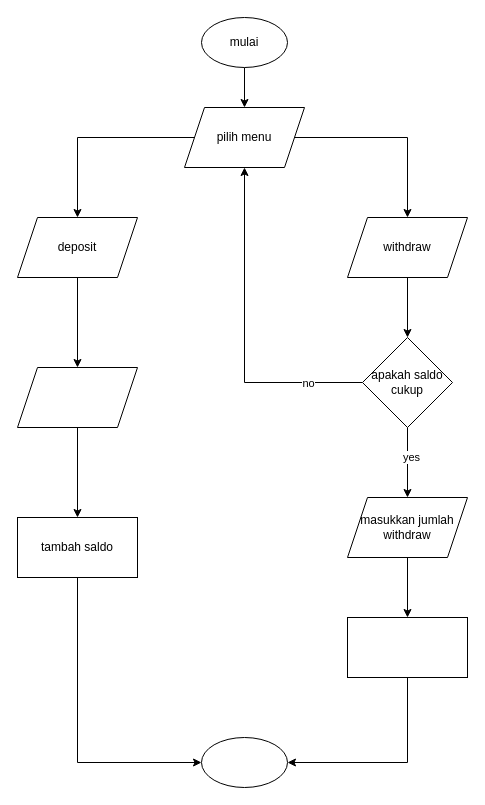
This 485x805 diagram has some shape labels left out. Here are the shapes that lost their labels. From the top down, the centre of each, then its label:
At pixel 77 397: "masukkan jumlah deposit".
At pixel 407 647: "tarik saldo".
At pixel 244 762: "selesai".
